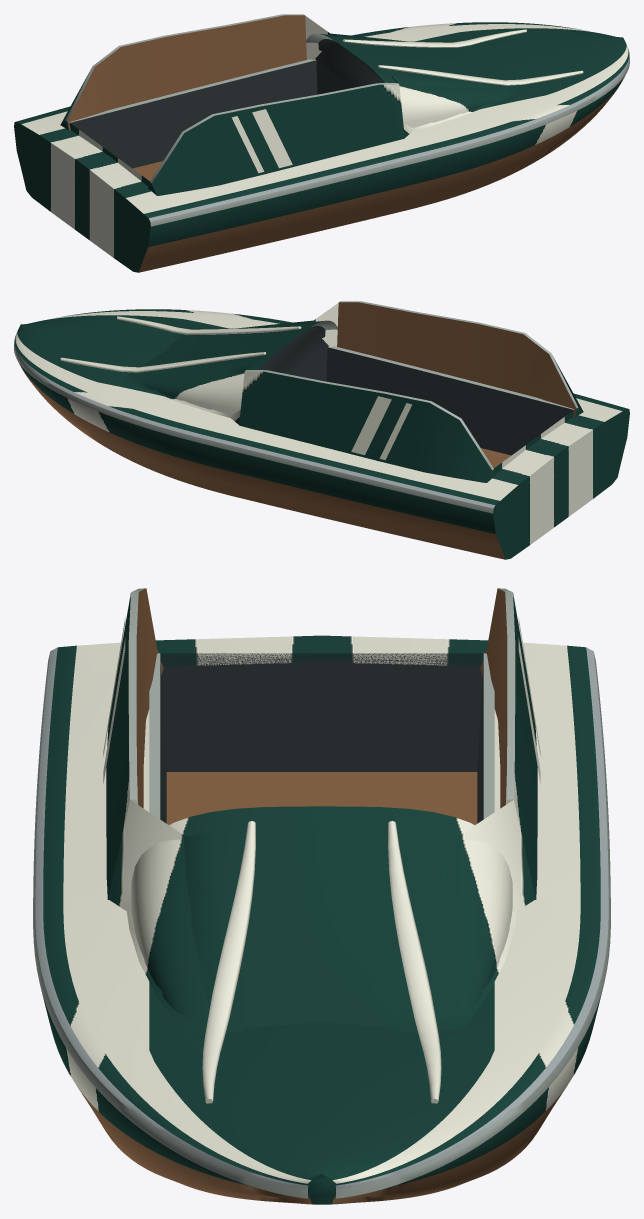
File: Hull_15_R_深緑・銀襟.glb
The picture shows the model from 3 angles, top to bottom: view 1: azimuth 30°, elevation 25°; view 2: azimuth 150°, elevation 25°; view 3: azimuth 270°, elevation 25°; orthographic projection. The views are drawn at different scales.
Parts seen in each view (by area): view 1: Hull_15_R; view 2: Hull_15_R; view 3: Hull_15_R.
Part boxes in pixels (left/top/right/bottom): Hull_15_R: left=14, top=14, right=629, bottom=272; Hull_15_R: left=14, top=301, right=629, bottom=559; Hull_15_R: left=33, top=588, right=610, bottom=1204.
Size of the model in its own units: 2.9 by 0.6856 by 1.34.
4 materials, 4 textured.
